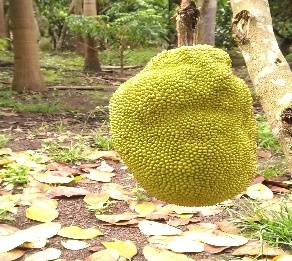Mit: (107, 49, 259, 205)
